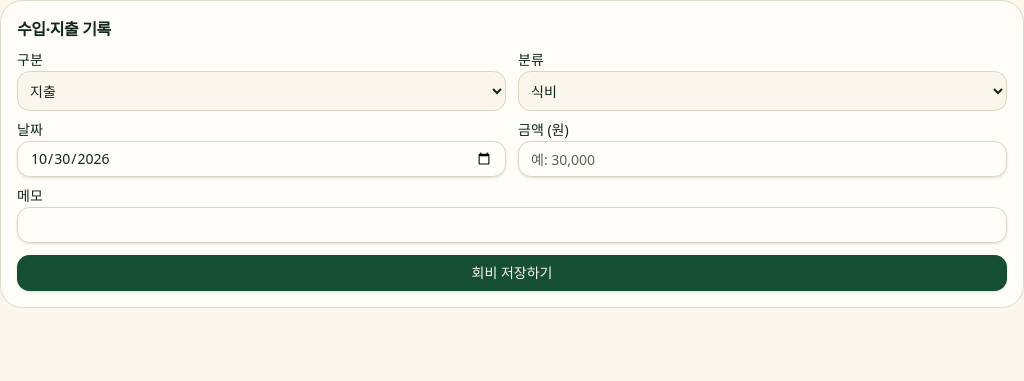
Test: 수입·지출 추가 분류 › 날짜가 없으면 화면에 이유를 표시하고 저장 요청을 하지 않는다
Type "10000" into the field labelled "금액 (원)". click: (762, 159)
box: [518,141,1007,177]
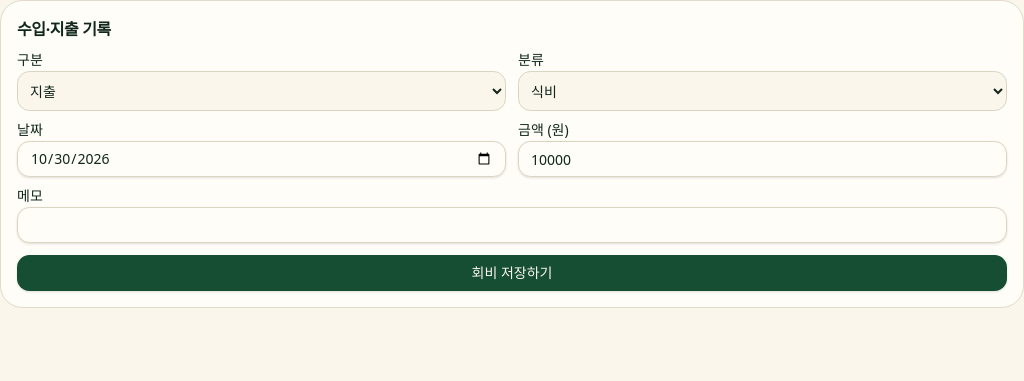
Clear the date field labelled "날짜". click: (262, 159)
box: [17,141,506,177]
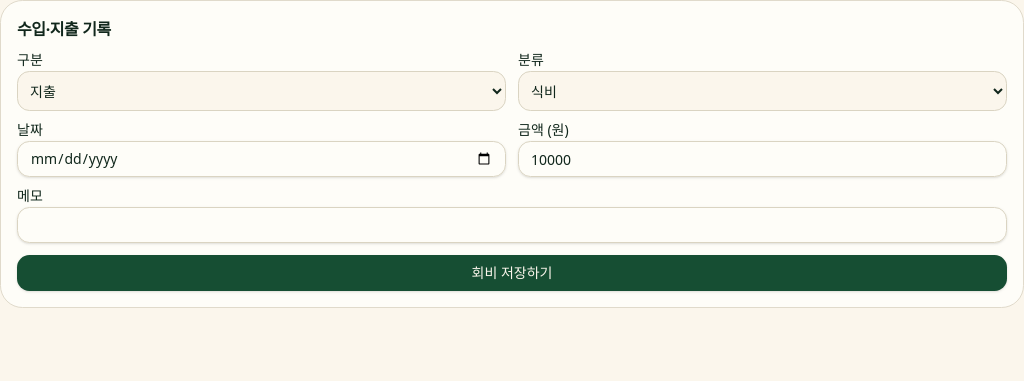
Click the button "회비 저장하기". click: (512, 273)
box: [17,255,1007,291]
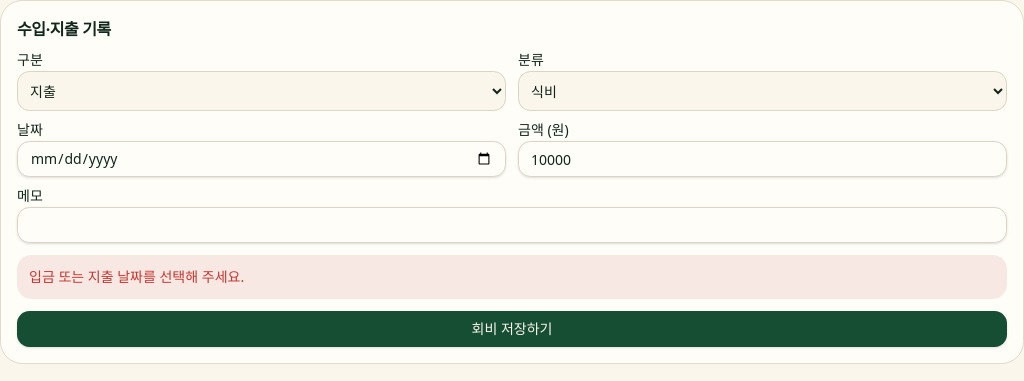
Check: the message shows "날짜를 선택", box [29,267,244,286]
